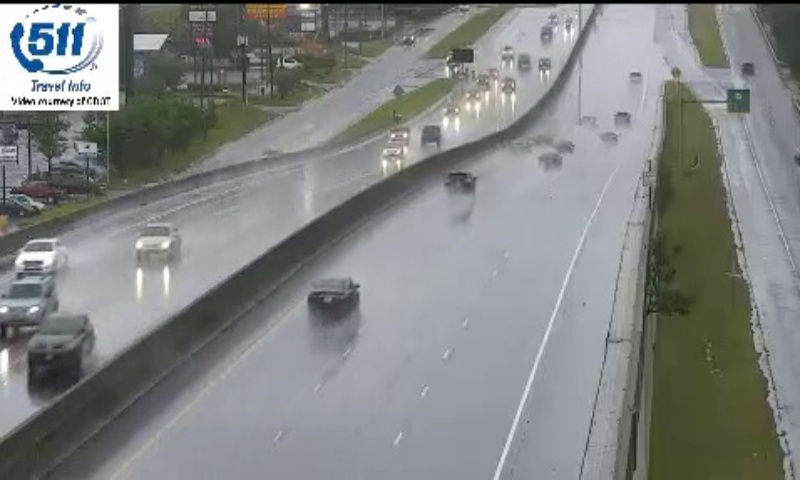car: (306, 277, 358, 317), (443, 171, 475, 196)
